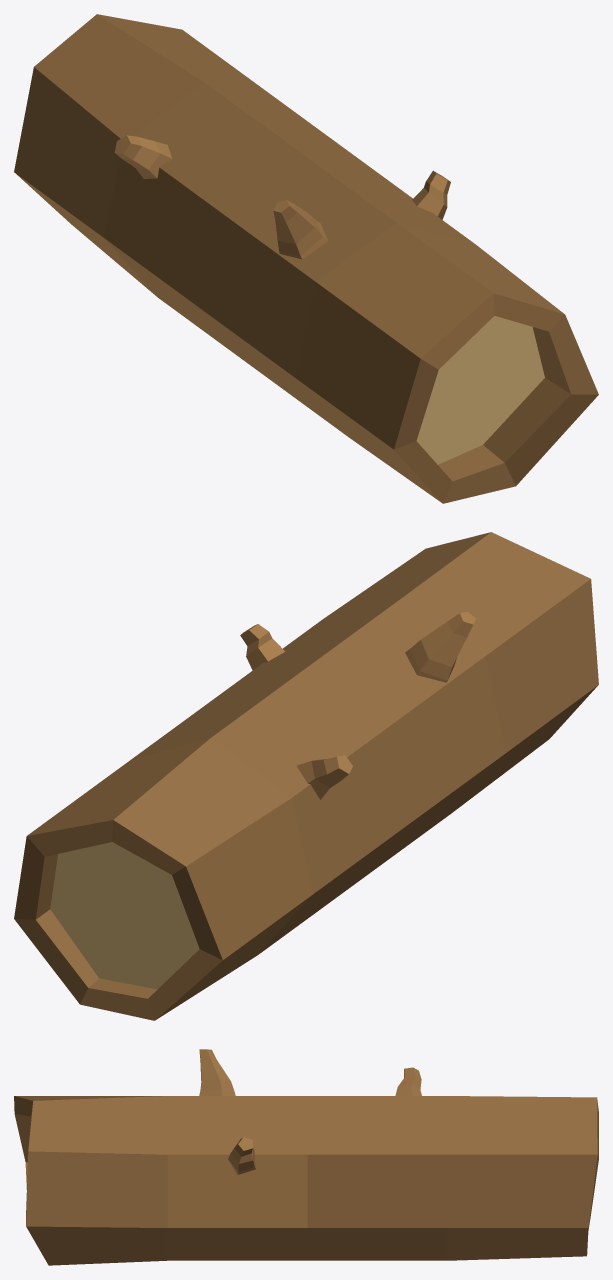
File: WoodLog.glb
The picture shows the model from 3 angles, top to bottom: view 1: azimuth 30°, elevation 25°; view 2: azimuth 150°, elevation 25°; view 3: azimuth 270°, elevation 25°; orthographic projection. The views are drawn at different scales.
Parts seen in each view (by area): view 1: Cylinder; view 2: Cylinder; view 3: Cylinder.
Boxes of the visible parts, x1,y1,x2,y2 form: Cylinder: [14, 14, 598, 503]; Cylinder: [14, 532, 598, 1020]; Cylinder: [14, 1049, 598, 1265].
Bounding box in the file's own units: 1.81 × 1.86 × 5.7.
